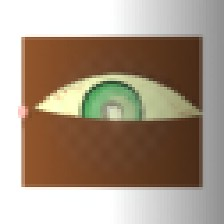corneal_ulcer: (89, 90, 148, 137)
